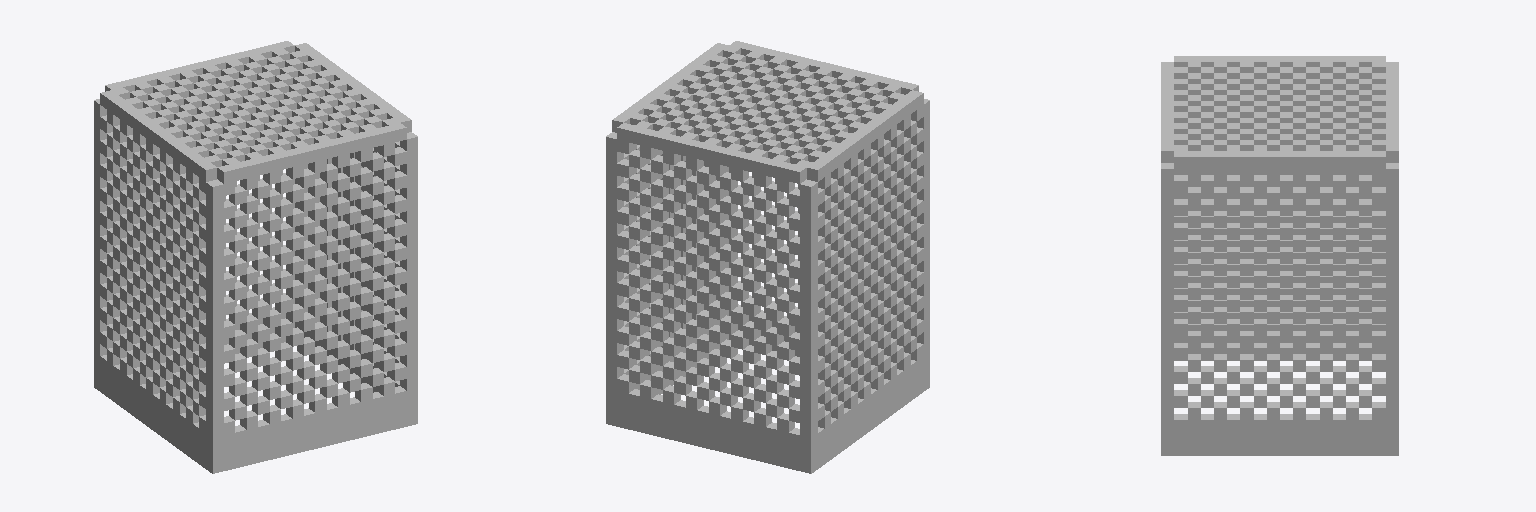
The model's file is Voxel Trash Can T2.obj.
3 renders of one model, left to right at view 1: azimuth 30°, elevation 25°; view 2: azimuth 150°, elevation 25°; view 3: azimuth 270°, elevation 25°, orthographic.
Visible parts, largest first — view 1: object 1; view 2: object 1; view 3: object 1.
Boxes of the visible parts, x1,y1,x2,y2 form: object 1: [94, 41, 417, 473]; object 1: [606, 41, 929, 473]; object 1: [1161, 56, 1398, 455].
Bounding box in the file's own units: 1.8 × 2.5 × 1.8.